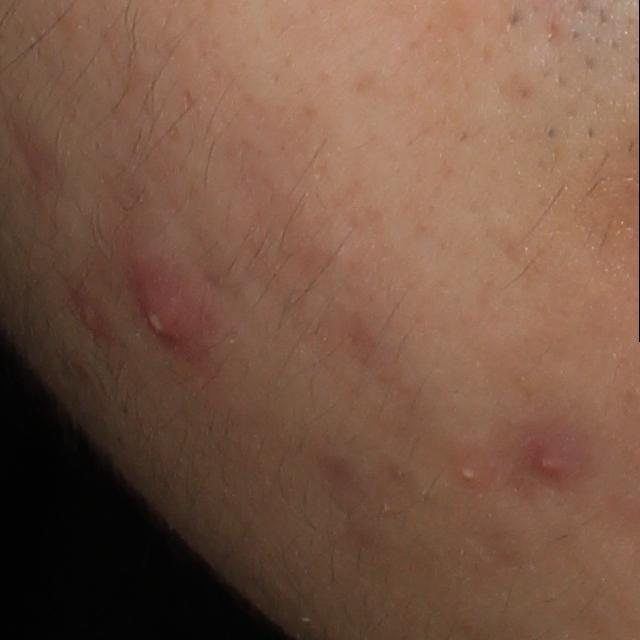papule: (529, 441, 571, 482)
pustule: (130, 255, 219, 367), (455, 454, 484, 488)
